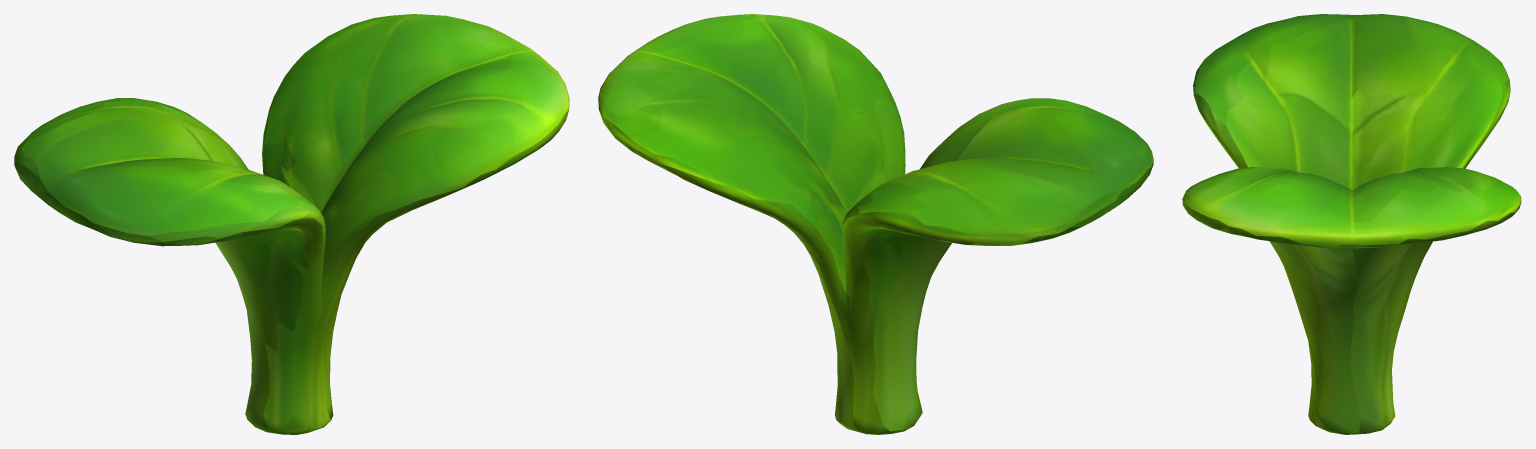
3 views of the same model, side by side, from view 1: azimuth 30°, elevation 25°; view 2: azimuth 150°, elevation 25°; view 3: azimuth 270°, elevation 25° (orthographic).
Visible parts, largest first — view 1: world; view 2: world; view 3: world.
Boxes of the visible parts, <box> form: world: <box>14,14,569,434</box>; world: <box>598,14,1153,434</box>; world: <box>1182,14,1521,434</box>.
Bounding box in the file's own units: 0.08 × 0.05 × 0.0483.
1 material, 1 textured.
